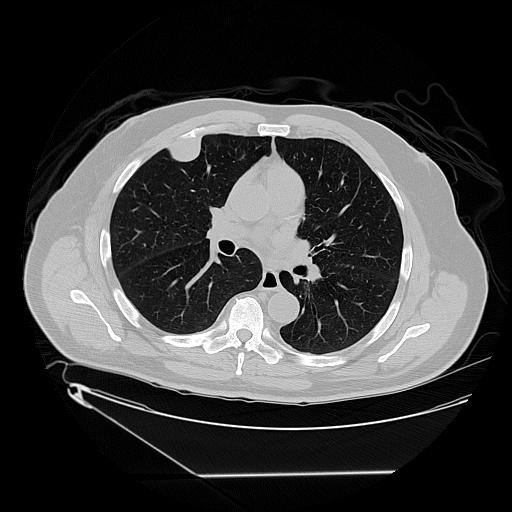nodule: (169, 133, 202, 166)
